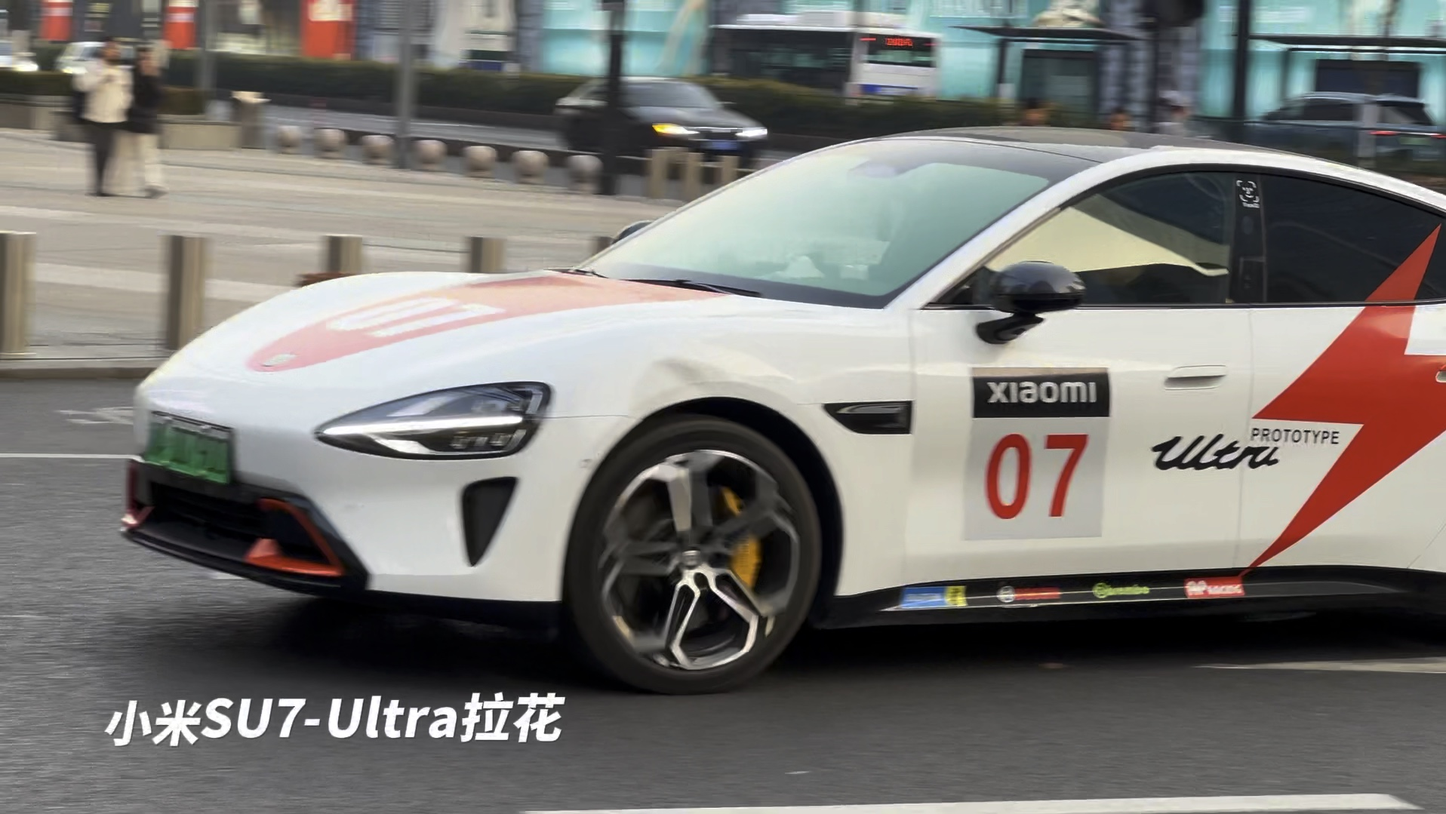su7: (106, 124, 1446, 694)
